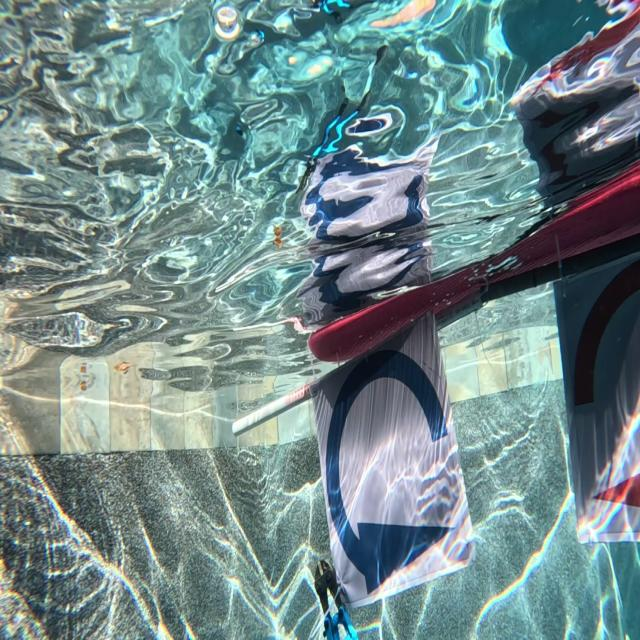blue_side: (280, 311, 472, 605)
red_side: (544, 236, 640, 538)
